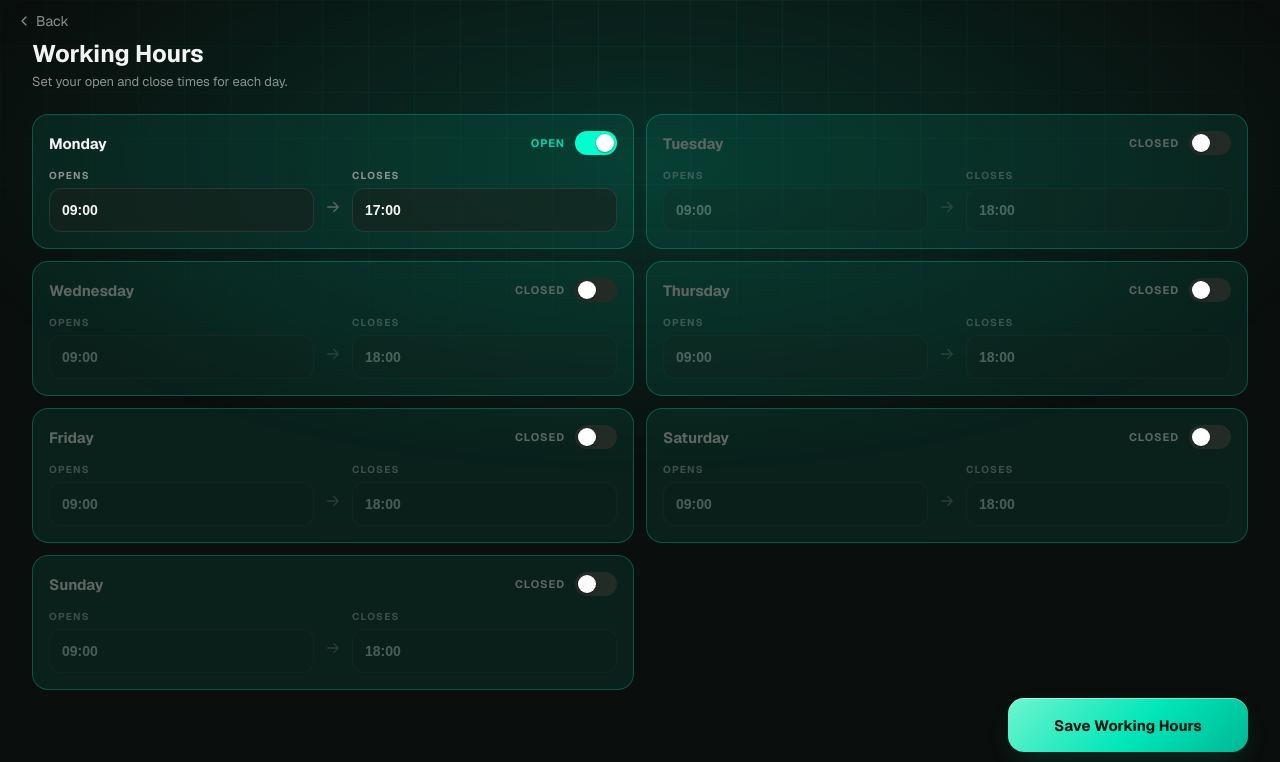
Test: WorkingHours › saves only the open days as working_hours
Click the button "Save Working Hours".
click(1128, 725)  # box [1008,698,1248,752]
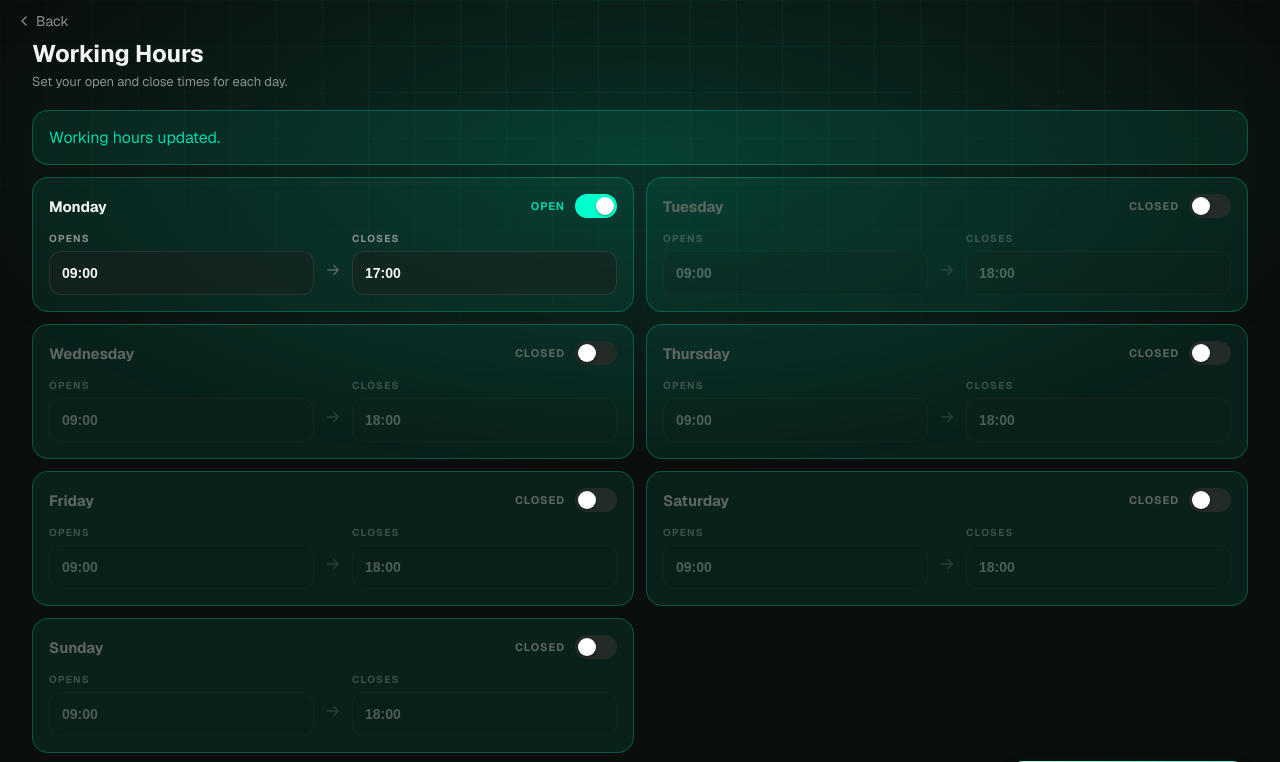
Expected: the text "Working hours updated." is shown, [32,110,1248,165]
